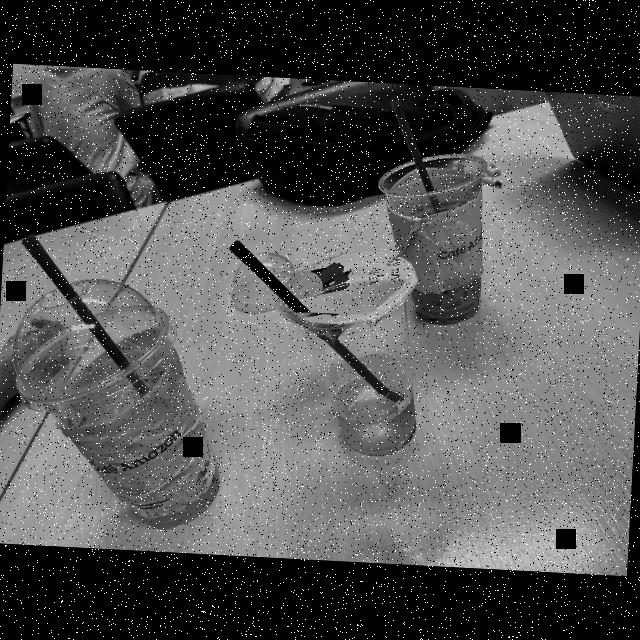plastic_cup: (4, 298, 233, 535), (272, 246, 428, 459), (368, 146, 491, 332)
plastic_cup_lid: (9, 273, 182, 420), (228, 251, 298, 317)
straw: (230, 239, 406, 407), (21, 234, 155, 399), (390, 96, 445, 213)
